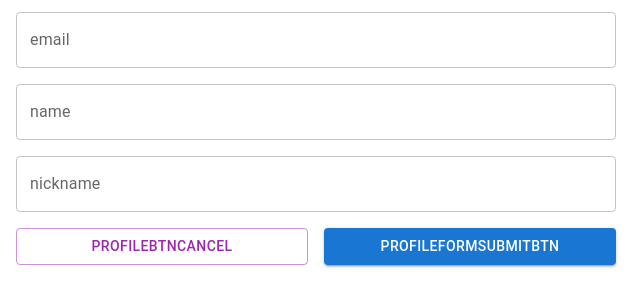
Test case: ProfileForm › displays error message when email format is invalid
Type "invalid-email" into the field with test id "email" at (316, 40), box [16,12,616,68]
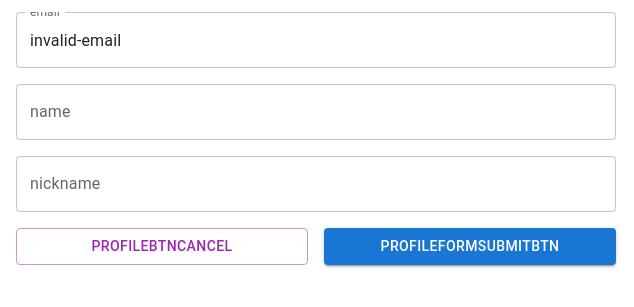
Type "John Doe" into the field with test id "name" at (316, 112), box [16,84,616,140]
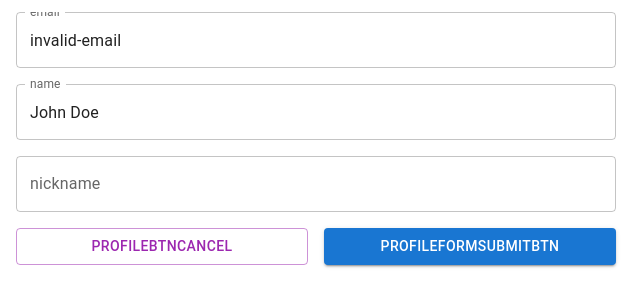
Type "Johnny" into the field with test id "nickname" at (316, 184), box [16,156,616,212]
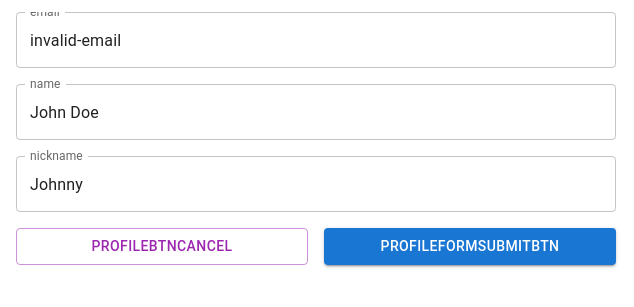
Click the button "profileFormSubmitBtn" at (470, 246), box [324,228,616,264]
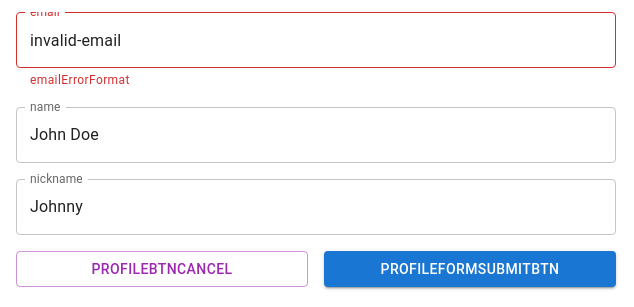
expect the text "emailErrorFormat" is shown: met, box [30,73,130,87]
